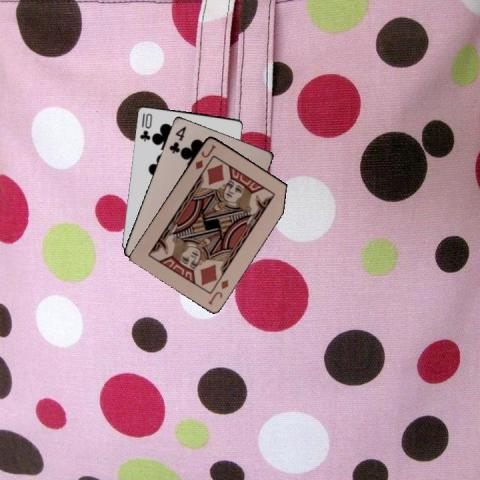10c: (137, 110, 153, 143)
4c: (166, 123, 187, 155)
Jd: (192, 141, 217, 171), (205, 276, 230, 306)
